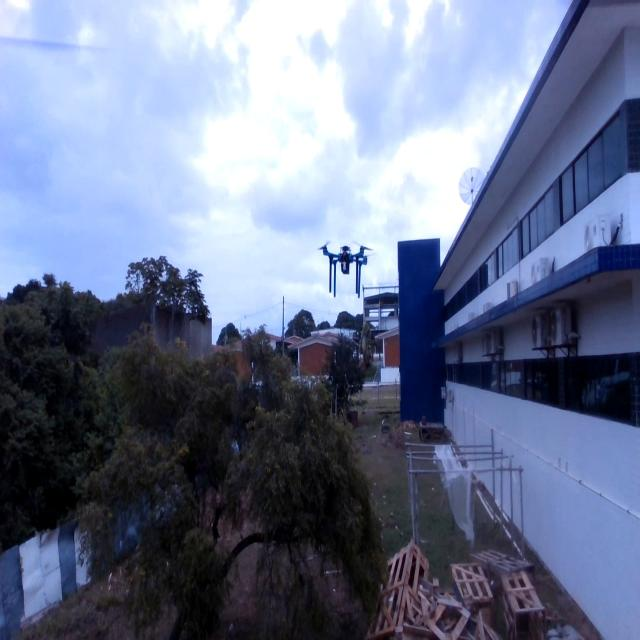-uav-: (309, 228, 377, 302)
